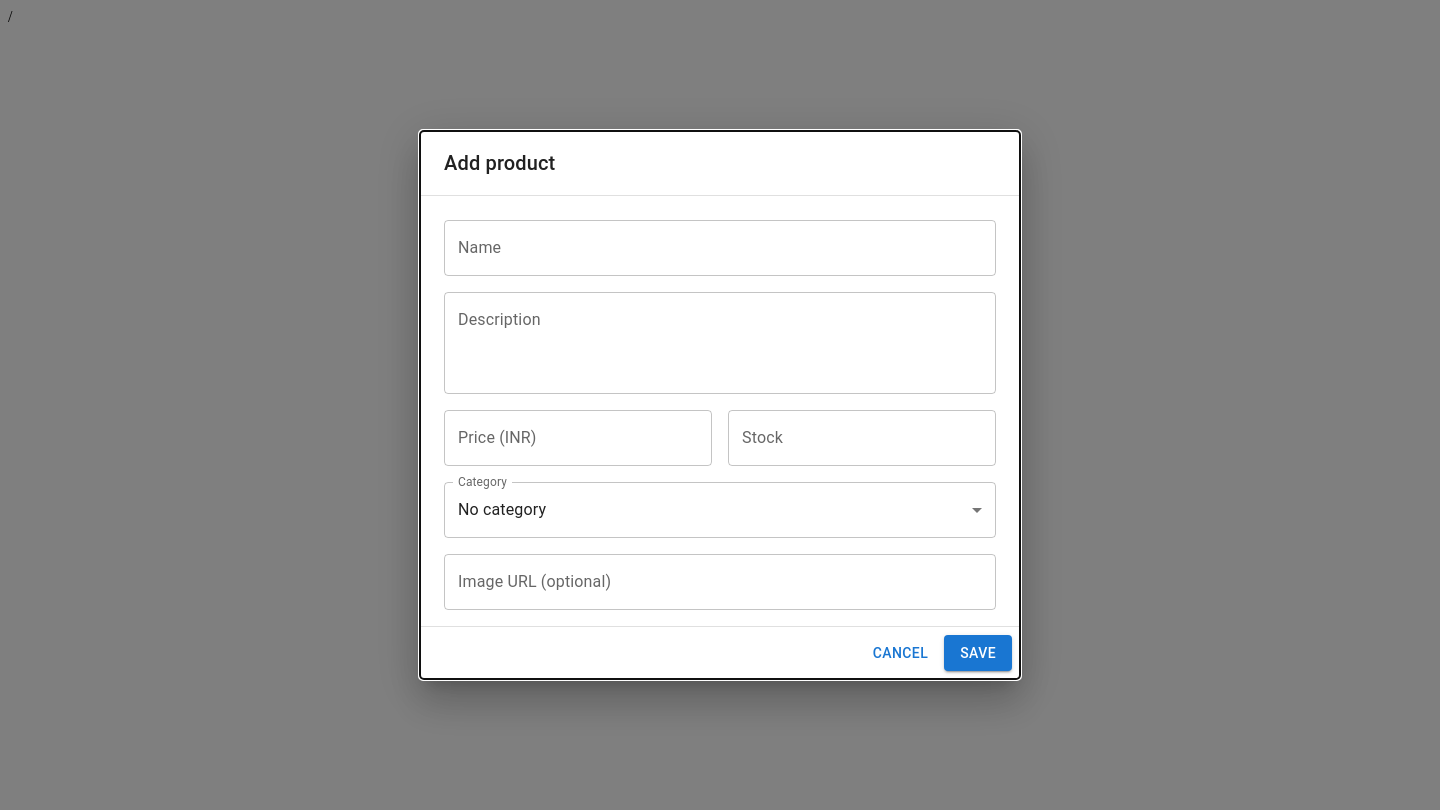
Test case: ProductFormModal › rejects name= price=10 stock=1
In the number field labelled "Price (INR)": (578, 438) [444,410,712,466], type "10"
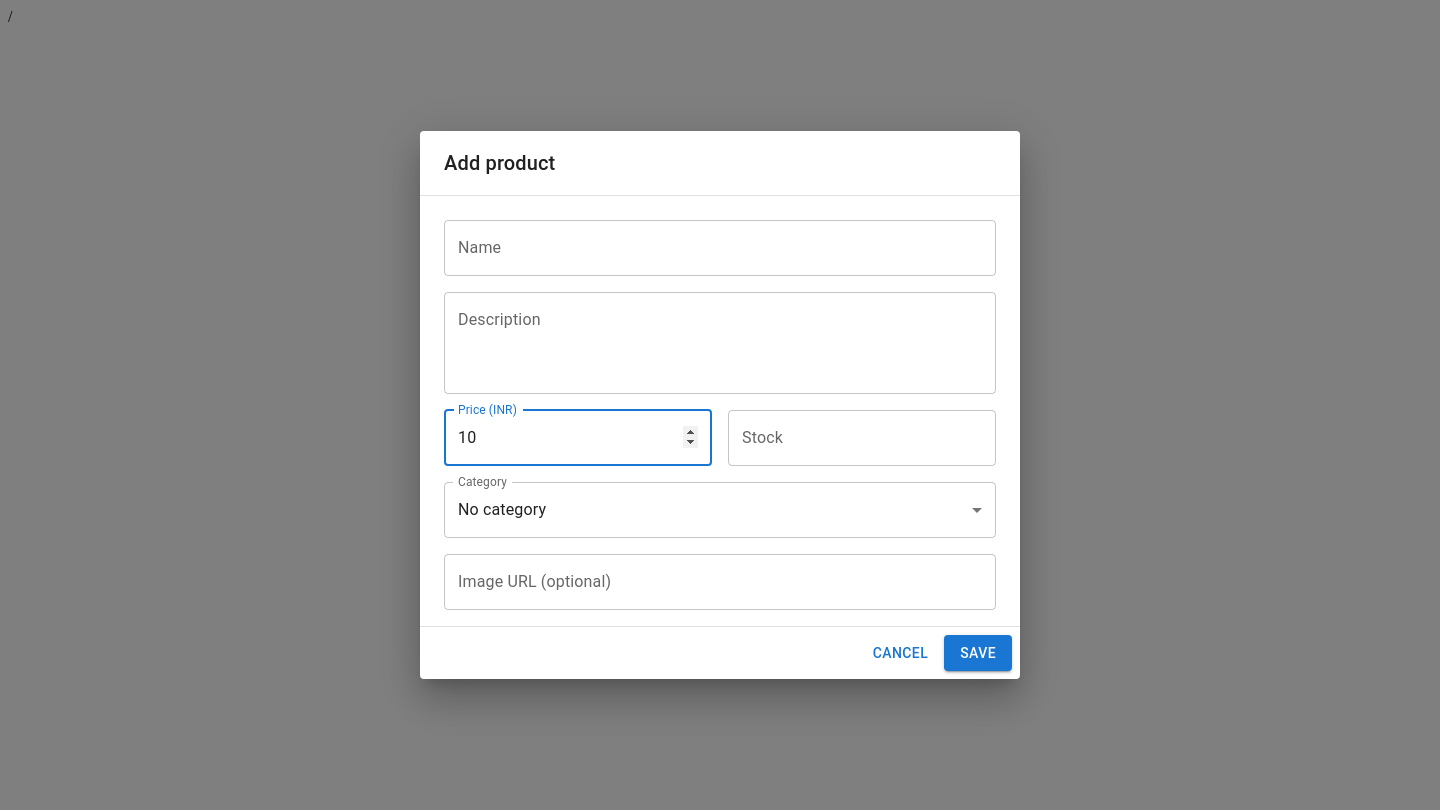
In the number field labelled "Stock": (862, 438) [728,410,996,466], type "1"
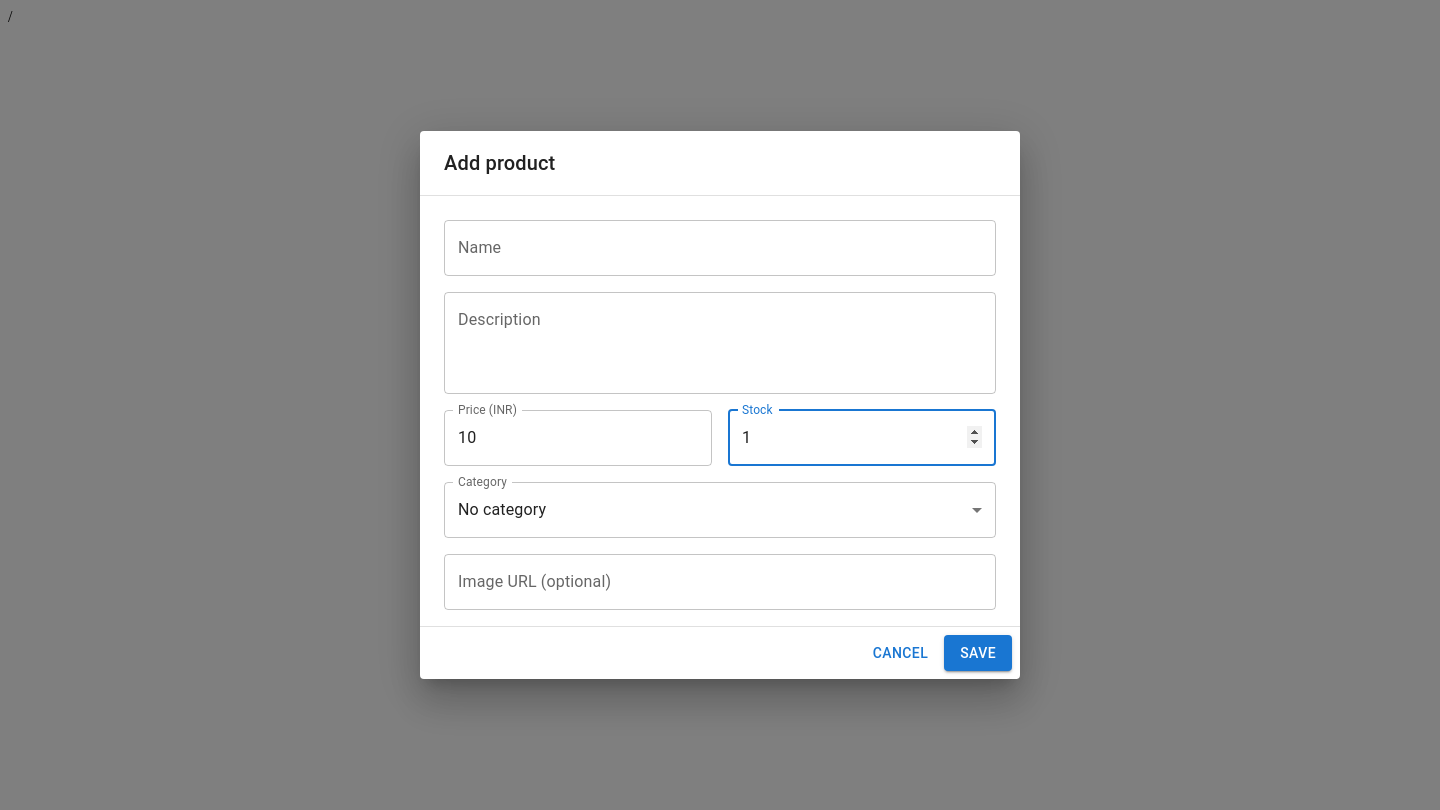
Click the button "Save": click(978, 653) [944,635,1012,671]
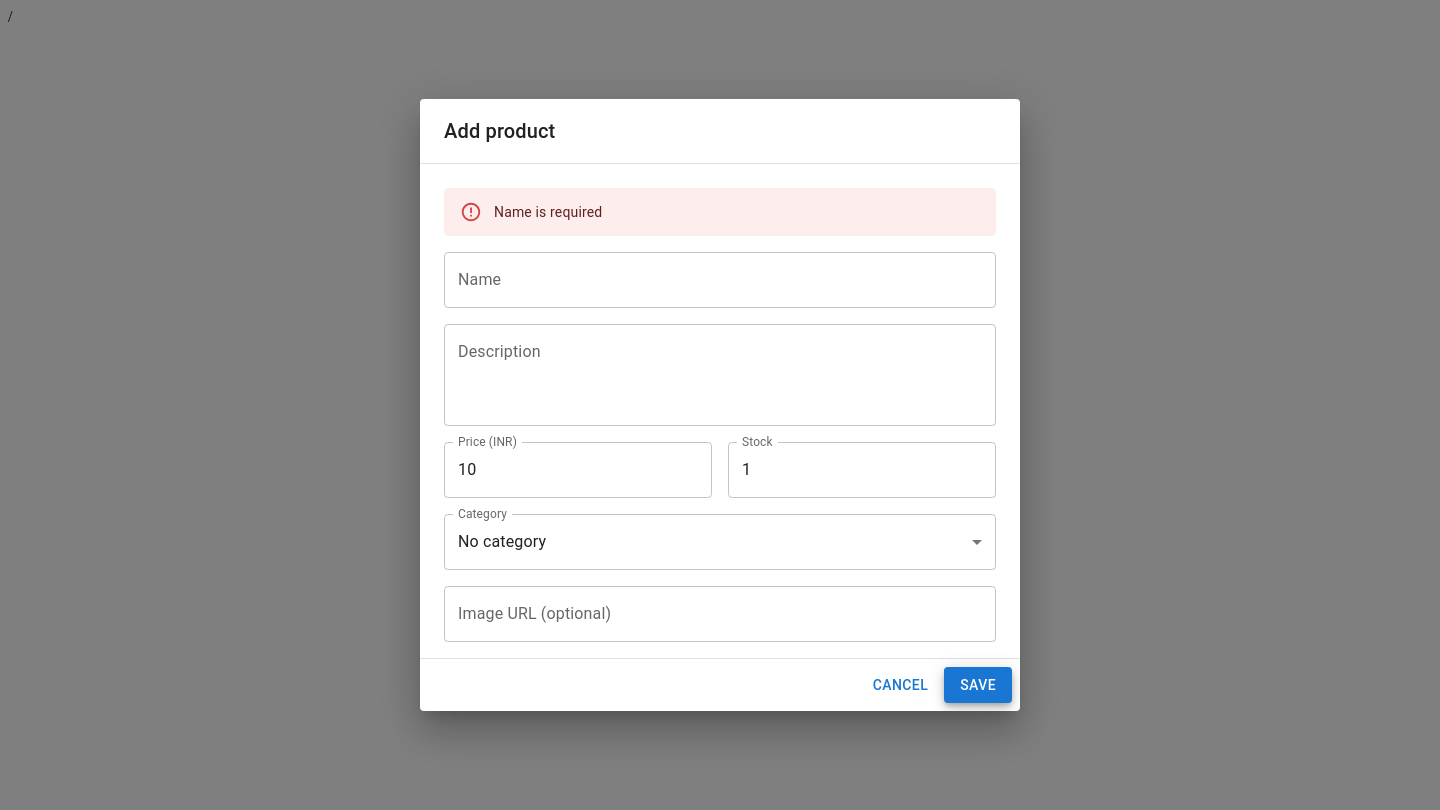
Now the text "Name is required" is shown, box [494,204,602,220]
